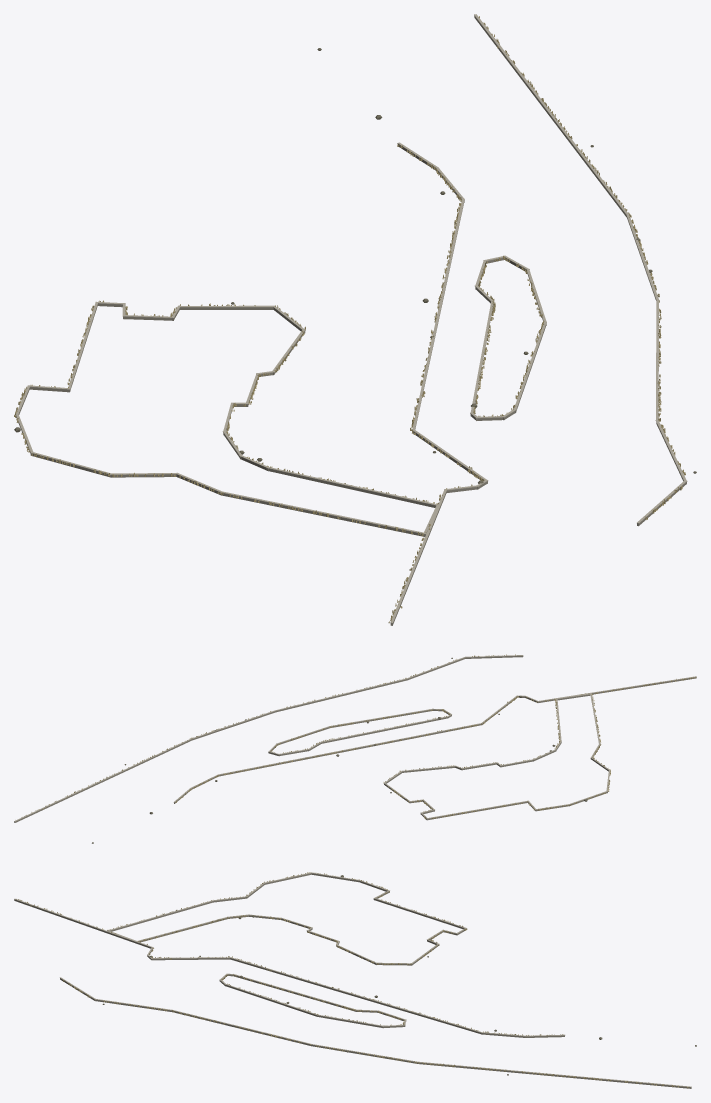
3 views of the same model, one above another, from view 1: azimuth 30°, elevation 25°; view 2: azimuth 150°, elevation 25°; view 3: azimuth 270°, elevation 25° (orthographic). The views are drawn at different scales.
Bounding box in the file's own units: 25 × 0.1497 × 33.52.
